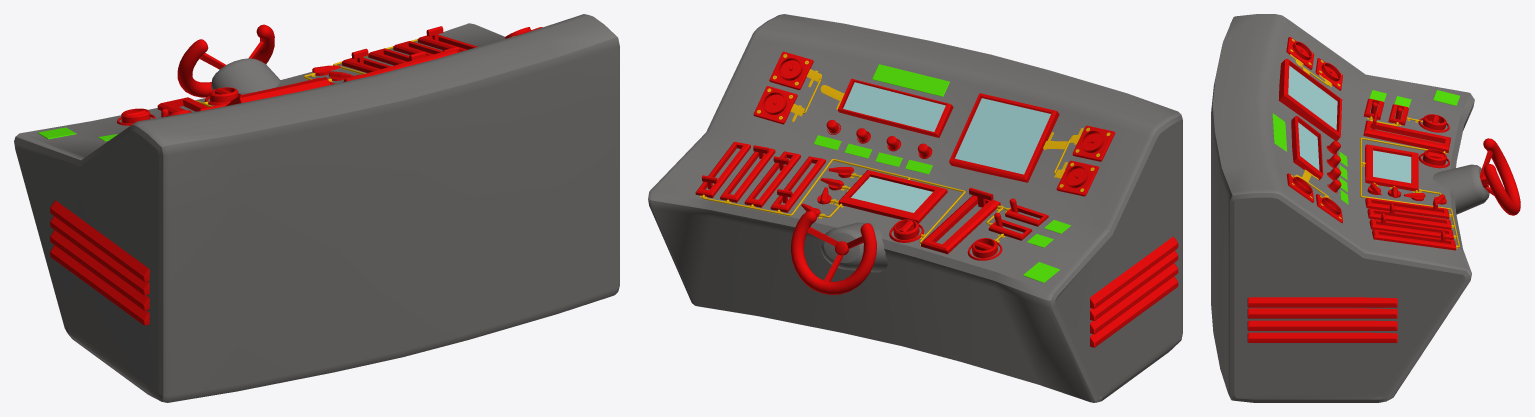
Rendered from Control_Panel.fbx.
3 views of the same model, side by side, from view 1: azimuth 30°, elevation 25°; view 2: azimuth 150°, elevation 25°; view 3: azimuth 270°, elevation 25° (orthographic). The views are drawn at different scales.
Visible parts, largest first — view 1: pasted__MainControl_Console, pasted__pCylinder8, pasted__pCube35, pasted__pTorus1, pasted__pCube37, pasted__pCube38, pasted__pCube36, polySurface3, polySurface1, pasted__pCube60; view 2: pasted__MainControl_Console, polySurface4, pasted__pCube60 (×4), polySurface2, pasted__pTorus1, polySurface3, polySurface5, pasted__pCylinder8, polySurface6, pasted__pCube65, pasted__pasted__MainGauge (×2), pasted__pCube35 (+8 smaller); view 3: pasted__MainControl_Console, pasted__pCube60 (×4), pasted__pCube36, pasted__pCube35, pasted__pCylinder8, pasted__pCube37, pasted__pCube38, pasted__pTorus1, polySurface3, polySurface4, pasted__pCube65, polySurface5 (+7 smaller).
Boxes of the visible parts, x1,y1,x2,y2 form: pasted__MainControl_Console: (14,14,619,402); pasted__pCylinder8: (211,58,280,92); pasted__pCube35: (50,200,149,281); pasted__pTorus1: (177,24,274,97); pasted__pCube37: (50,230,149,310); pasted__pCube38: (50,245,149,325); pasted__pCube36: (50,216,149,295); polySurface3: (225,77,329,106); polySurface1: (343,49,457,81); pasted__pCube60: (417,34,477,51); pasted__MainControl_Console: (648,14,1182,402); polySurface4: (955,98,1050,174); pasted__pCube60 (×4): (695,141,825,212); polySurface2: (843,82,945,131); pasted__pTorus1: (791,210,876,294); polySurface3: (949,93,1059,182); polySurface5: (838,170,947,223); pasted__pCylinder8: (820,222,887,272); polySurface6: (851,176,932,212); pasted__pCube65: (920,195,1000,254); pasted__pasted__MainGauge (×2): (753,51,813,124); pasted__pCube35: (1090,236,1178,308); pasted__MainControl_Console: (1211,14,1474,402); pasted__pCube60 (×4): (1365,198,1456,250); pasted__pCube36: (1247,308,1397,318); pasted__pCube35: (1247,297,1397,307); pasted__pCylinder8: (1433,164,1489,214); pasted__pCube37: (1247,320,1397,330); pasted__pCube38: (1247,332,1397,342); pasted__pTorus1: (1483,138,1520,215); polySurface3: (1278,58,1342,140); polySurface4: (1288,65,1337,129); pasted__pCube65: (1363,120,1451,153); polySurface5: (1365,144,1418,191).
Size of the model in its own units: 245 by 132 by 174.
